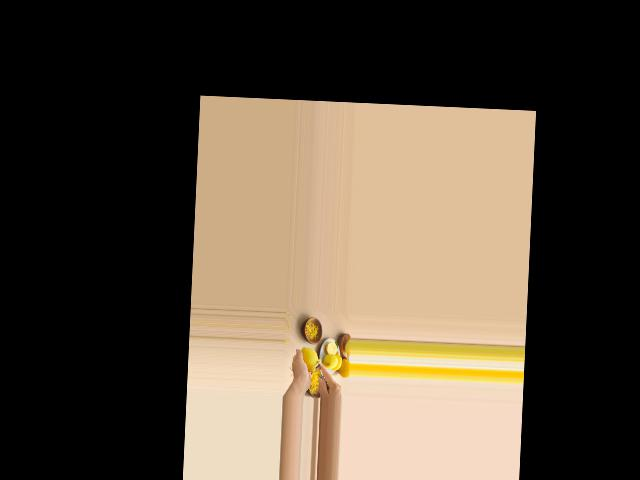lemon: (296, 347, 319, 372)
